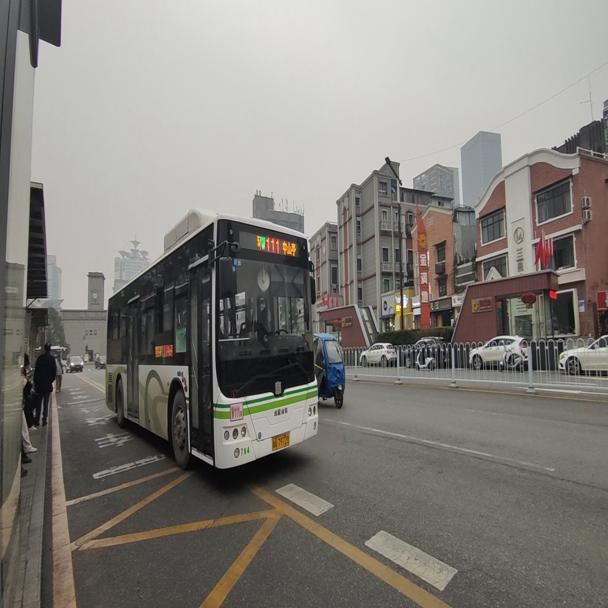bus: (101, 203, 320, 477)
screen: (265, 234, 281, 256)
